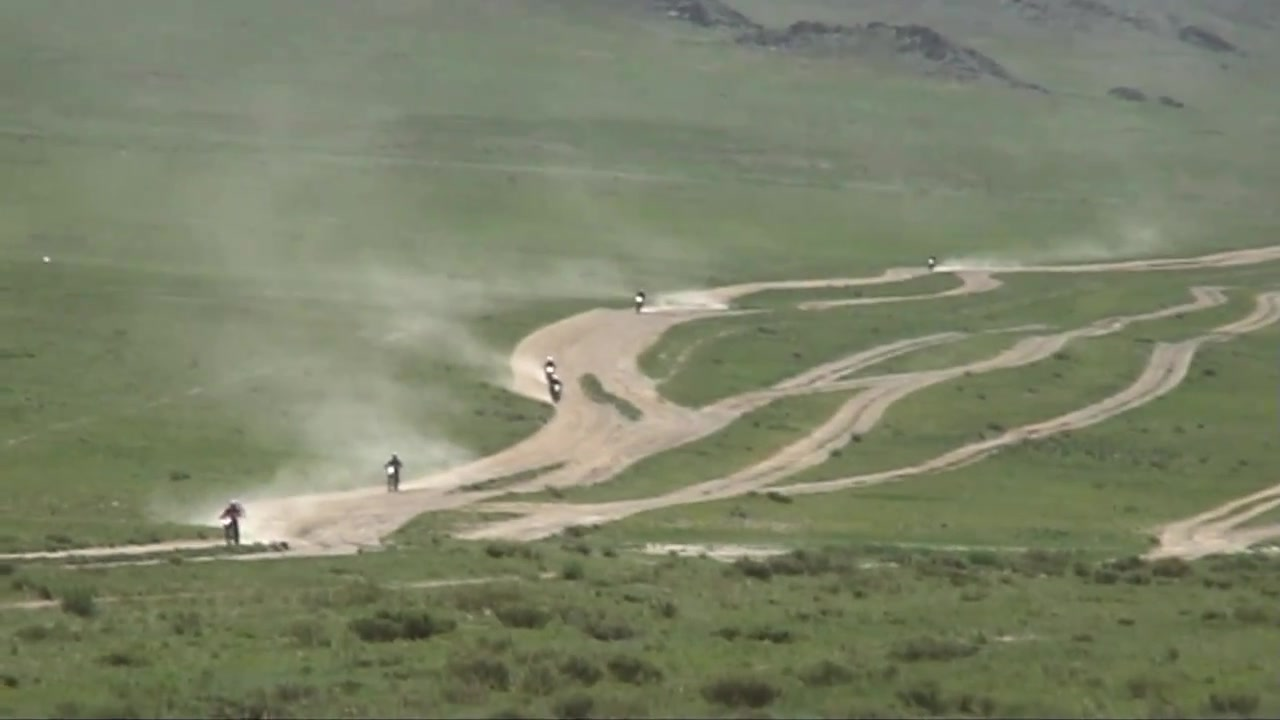motorbike: (221, 512, 251, 551), (542, 375, 568, 403)
